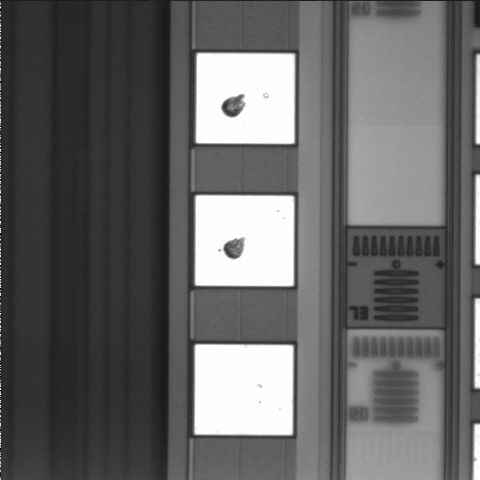pad: (196, 53, 295, 144), (195, 195, 294, 286), (195, 345, 293, 435)
